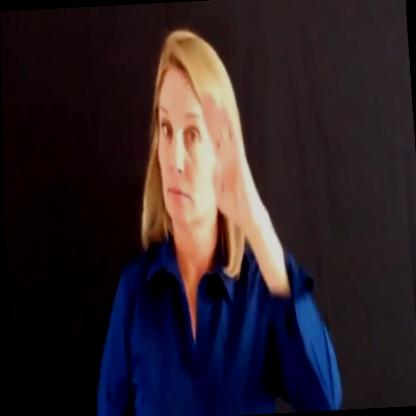Hello: (138, 14, 279, 286)
